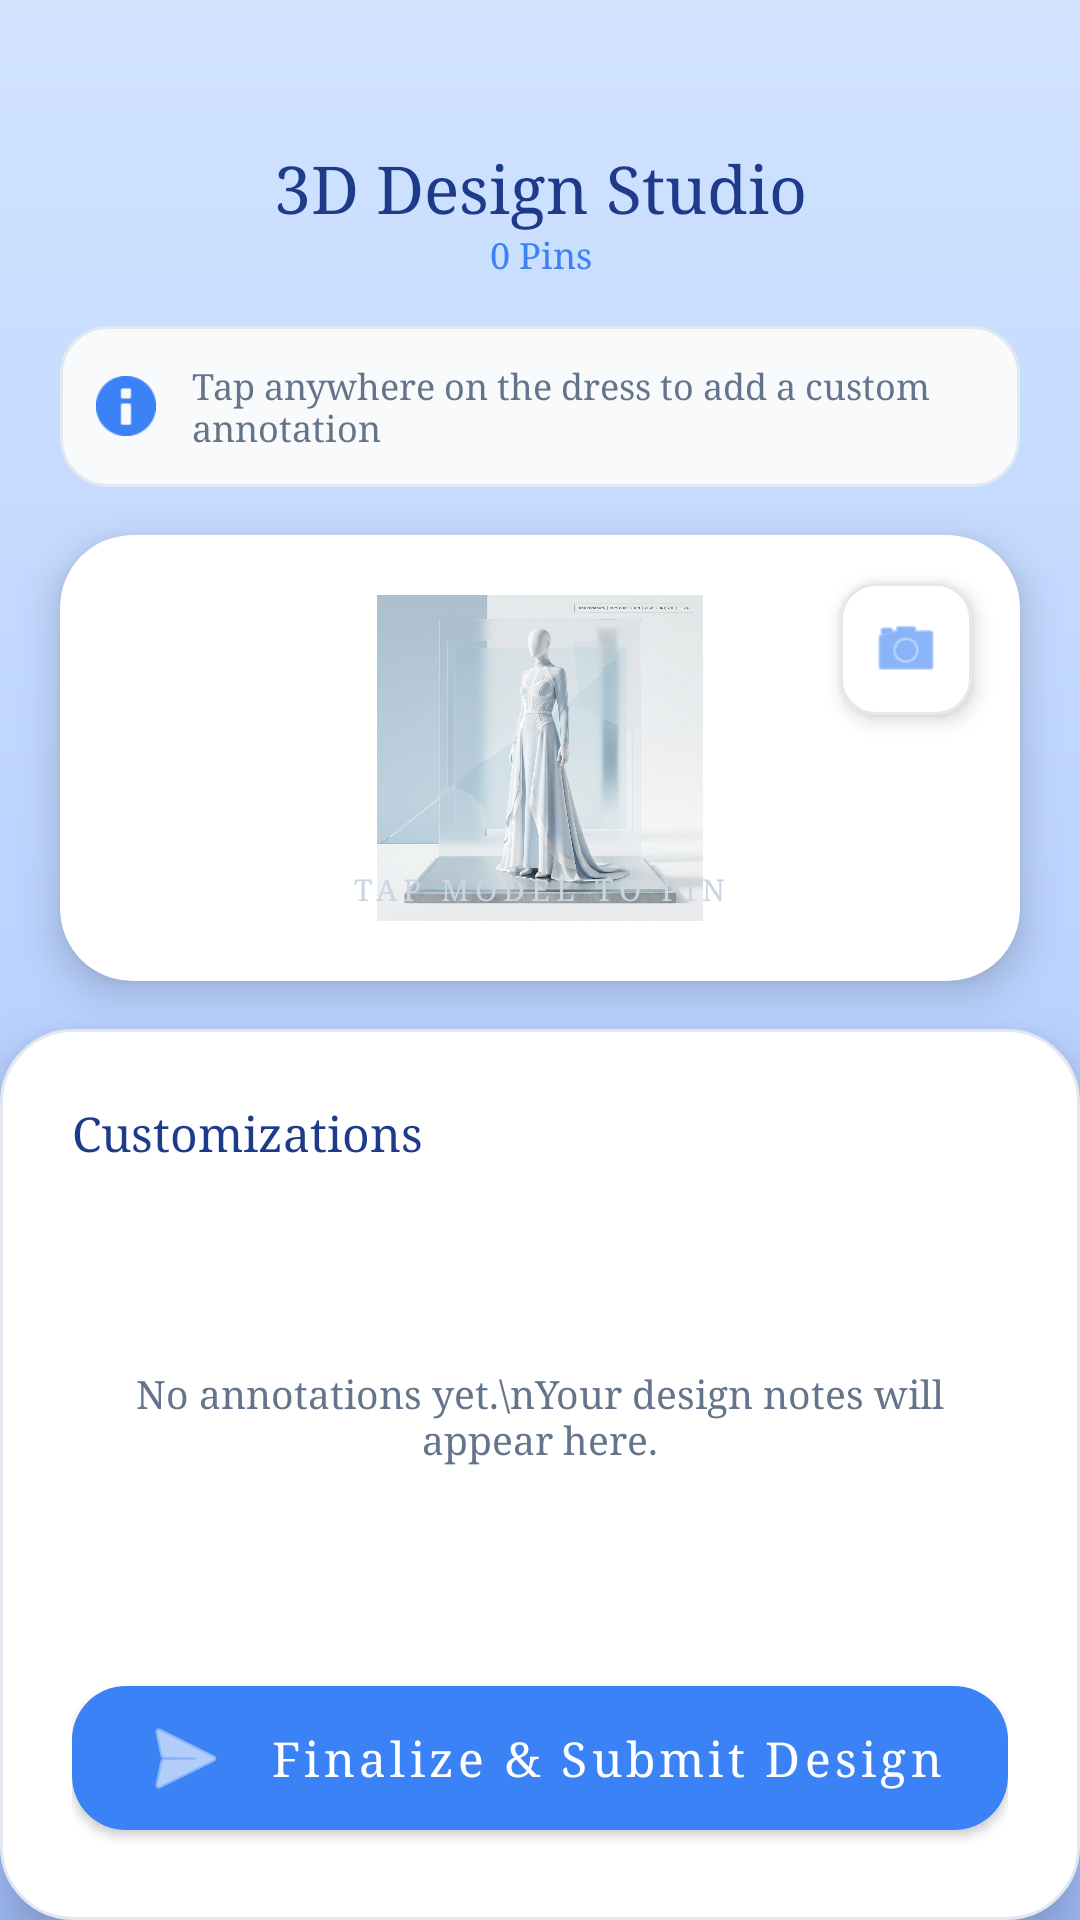

Screen size 1080px×1920px. Icon name, then its box in pixels as (x1, y1, x2, y2):
info: (96, 376, 156, 436)
